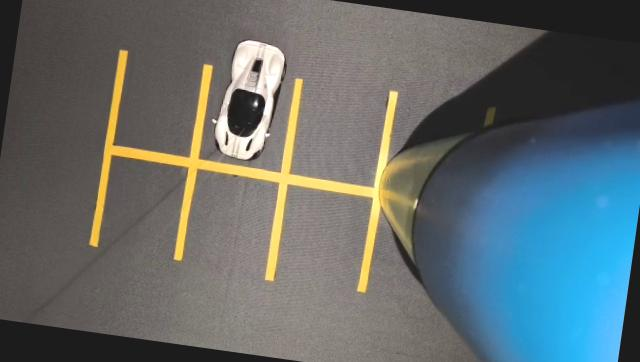toy_car: (185, 22, 315, 179)
